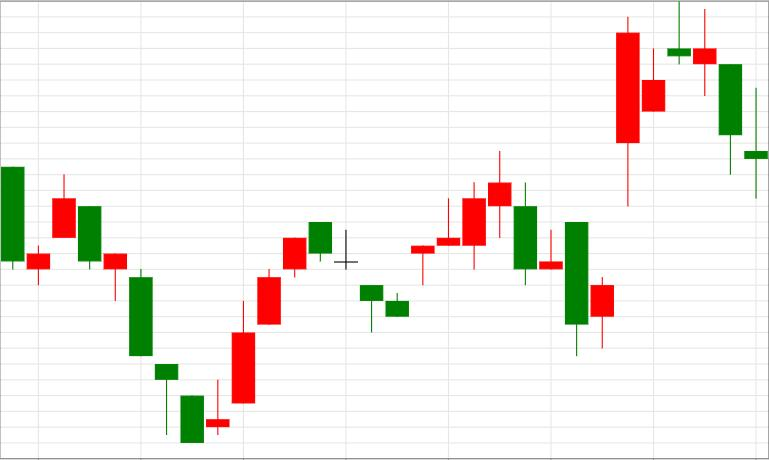three_white_soldiers_rise: (78, 206, 306, 443)
